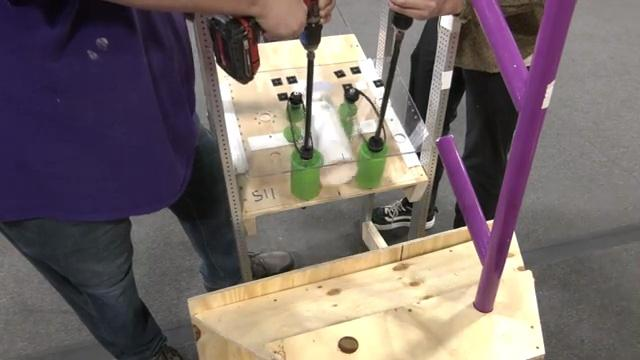CORAL: (291, 82, 358, 186)
